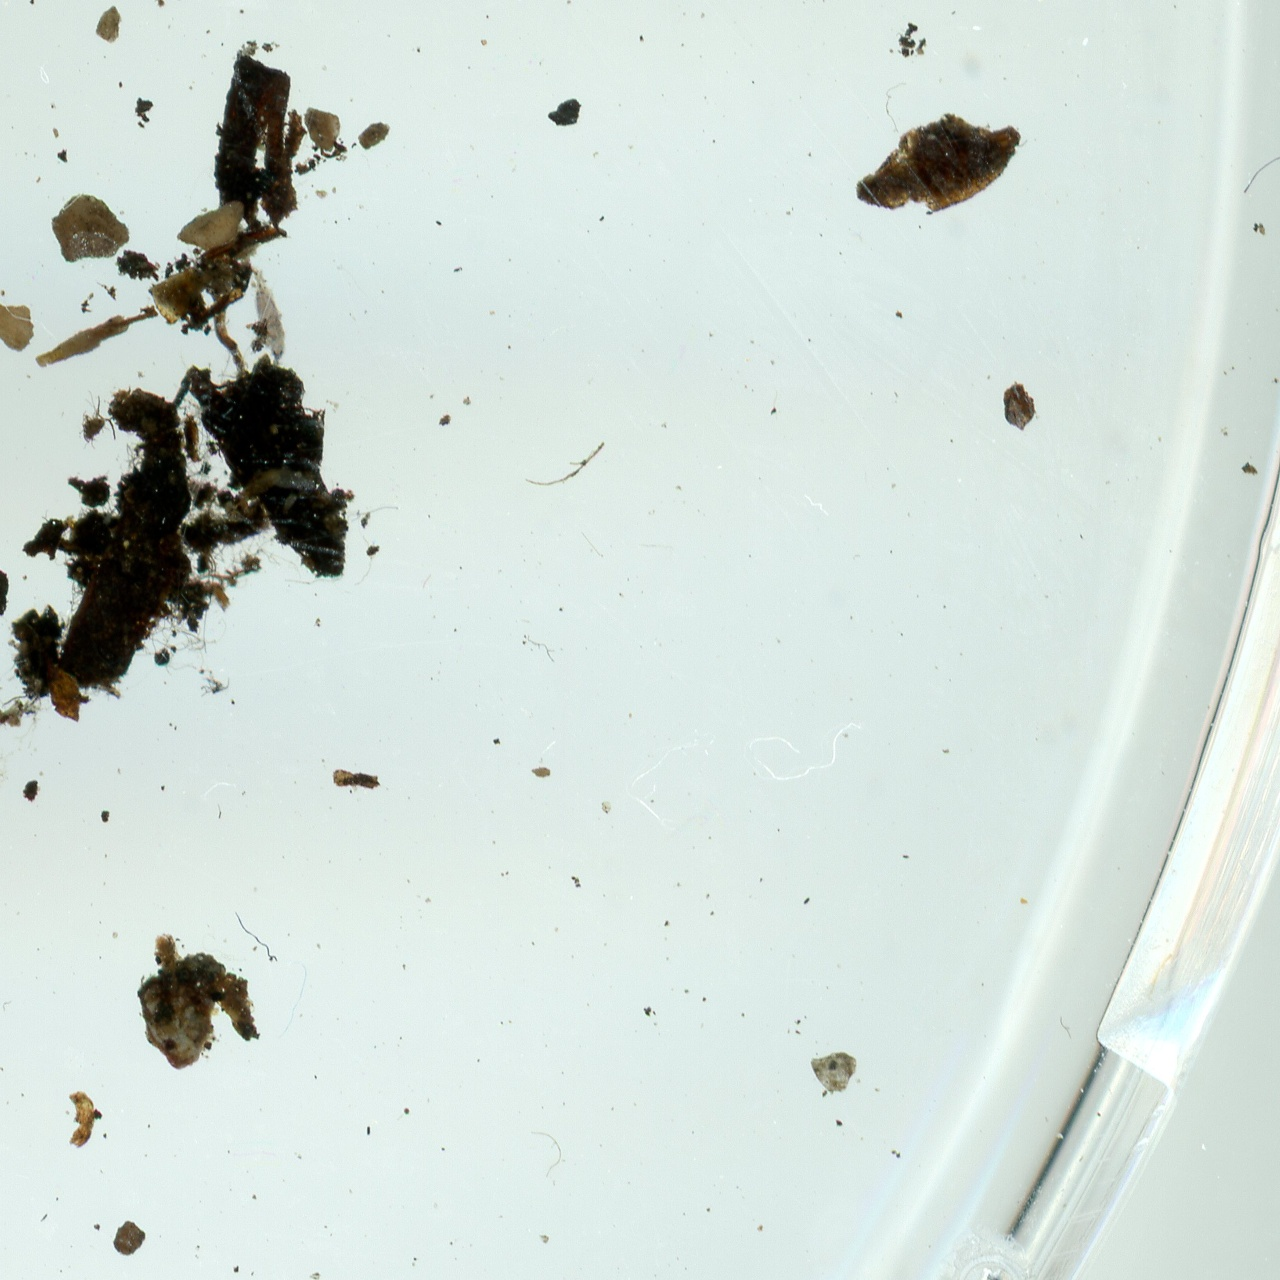arthropod: (242, 258, 295, 372), (0, 663, 42, 737)
